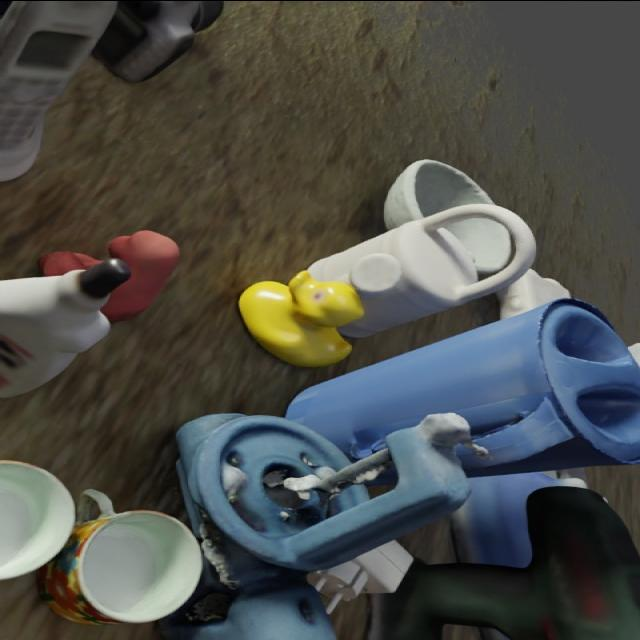Other Objects: (41, 489, 201, 624), (239, 271, 364, 366), (1, 460, 75, 579), (384, 159, 495, 227), (309, 540, 413, 612), (103, 230, 180, 321), (445, 218, 513, 275), (497, 269, 571, 317), (41, 251, 100, 275)
